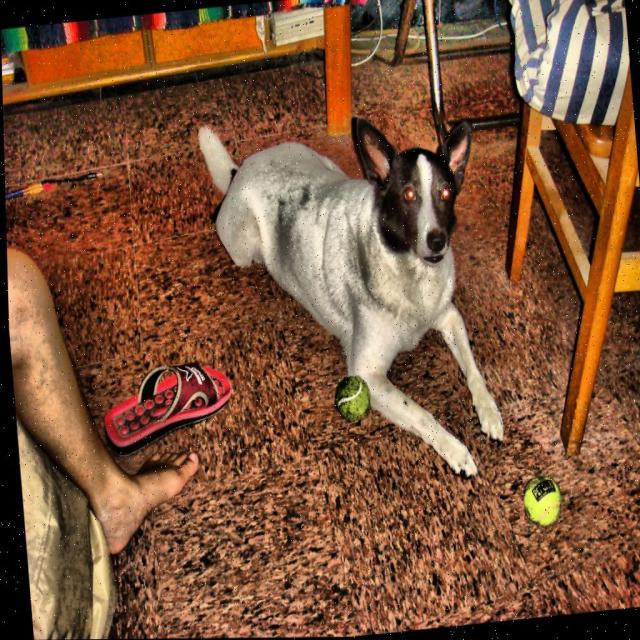tennis-ball: (519, 472, 564, 531), (330, 376, 371, 428)
